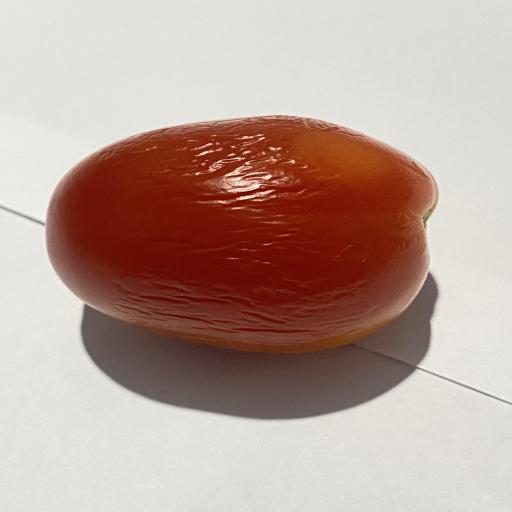spoiled: (46, 116, 438, 352)
